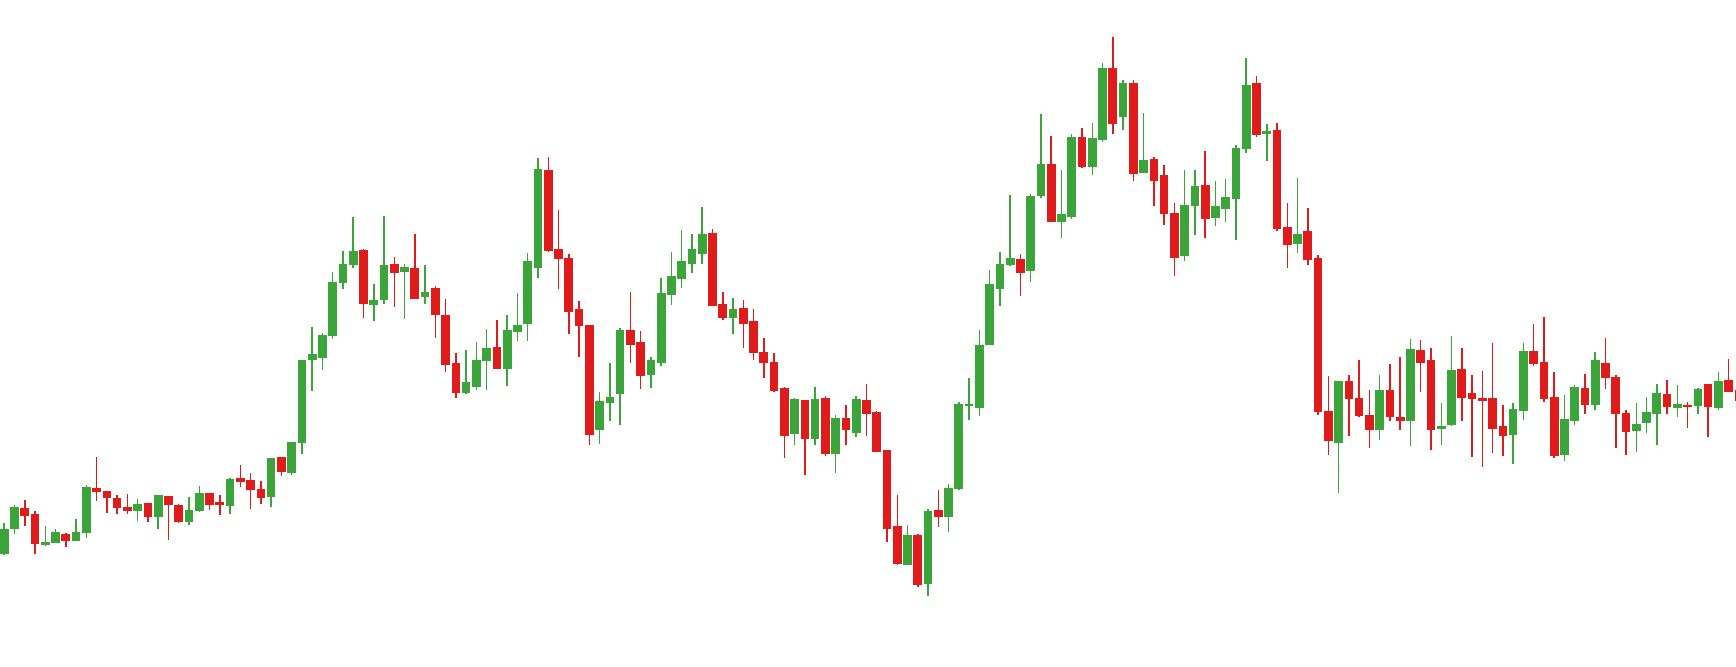buy: (451, 293, 603, 450)
sell: (347, 163, 554, 284), (1138, 60, 1261, 194), (1034, 37, 1118, 179)
